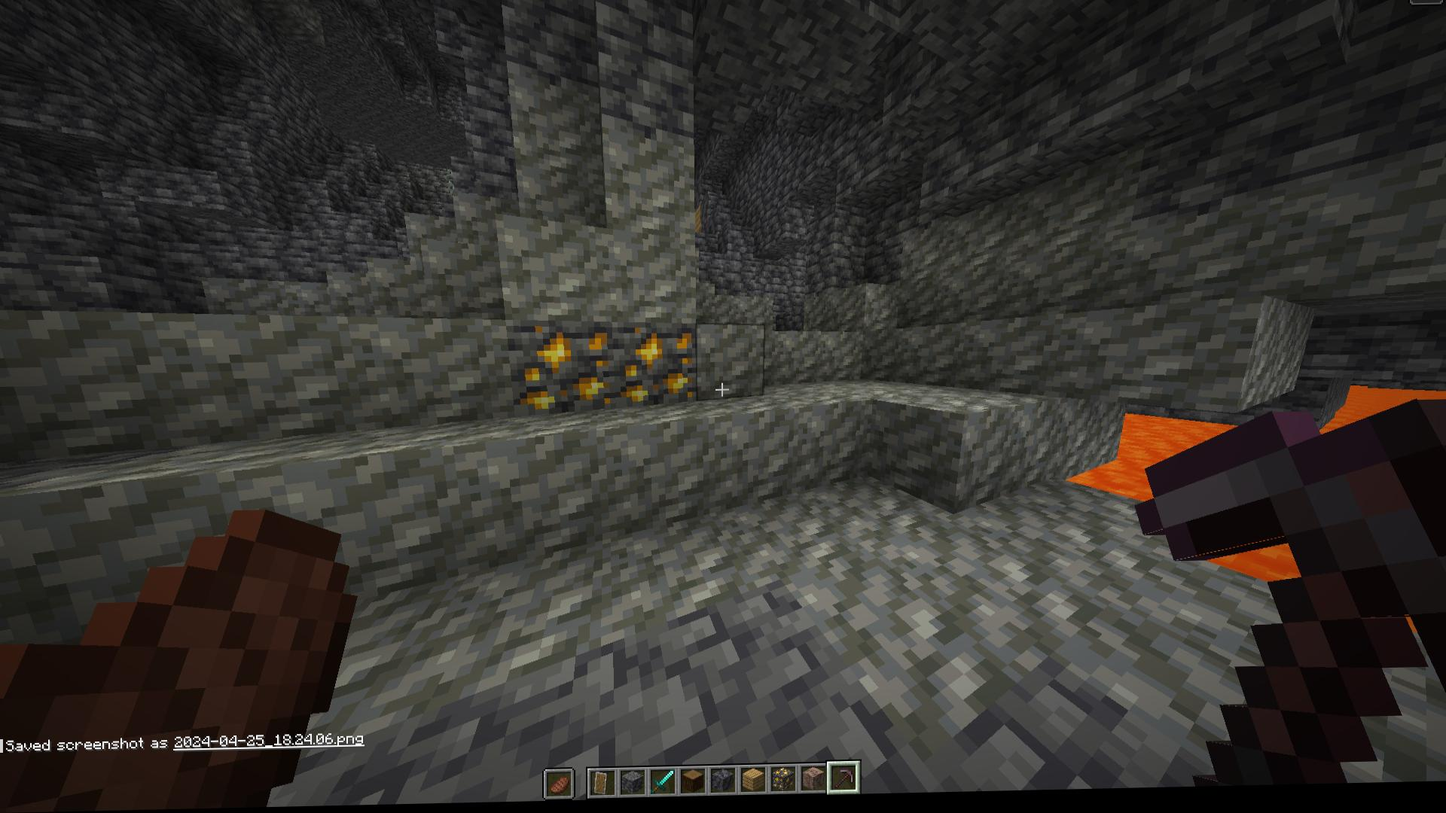gold ore: (510, 321, 612, 417), (615, 320, 698, 409)
